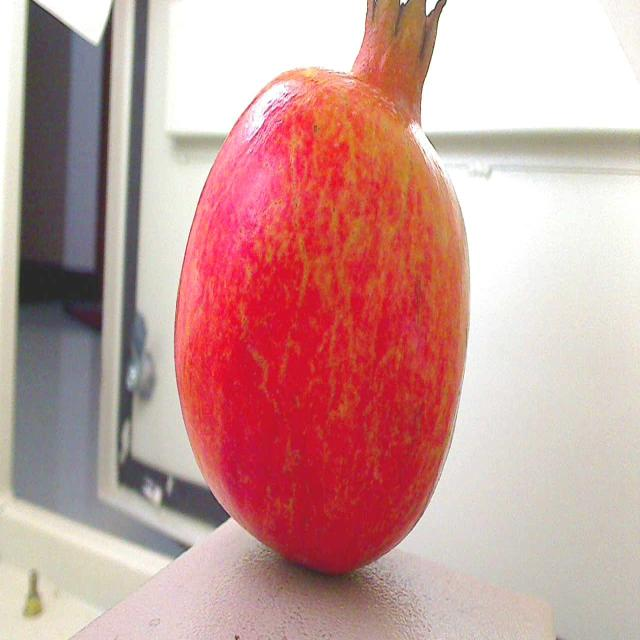pomegranate: (157, 0, 480, 601)
